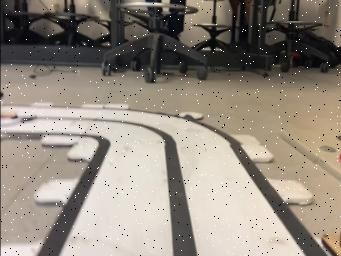street: (0, 104, 329, 256), (0, 104, 329, 256), (0, 104, 329, 256)
